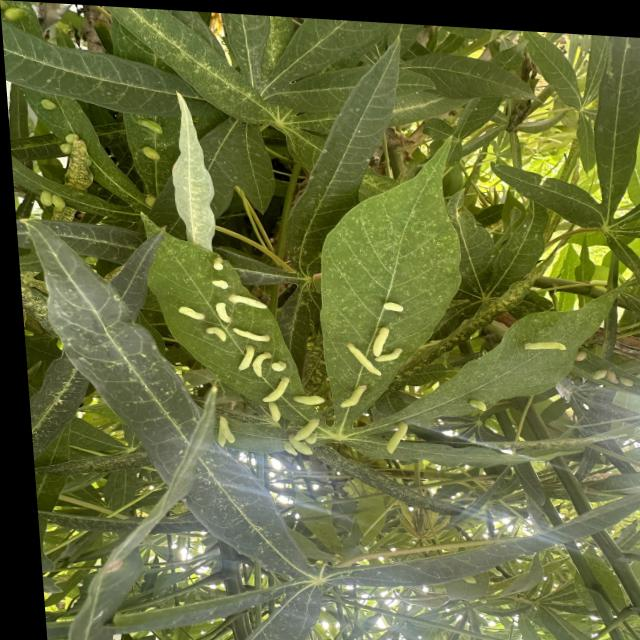Mosca: (204, 315, 296, 382), (344, 321, 419, 384), (271, 416, 333, 465), (203, 292, 275, 325), (256, 371, 304, 419), (206, 397, 241, 450), (201, 248, 240, 293), (169, 297, 214, 335), (335, 376, 378, 414), (378, 414, 410, 462), (516, 334, 575, 360), (294, 378, 332, 416), (32, 180, 71, 212), (137, 105, 172, 136), (44, 327, 74, 358), (377, 292, 410, 319), (53, 129, 90, 153), (133, 145, 161, 169), (460, 397, 493, 415), (35, 96, 61, 118)
